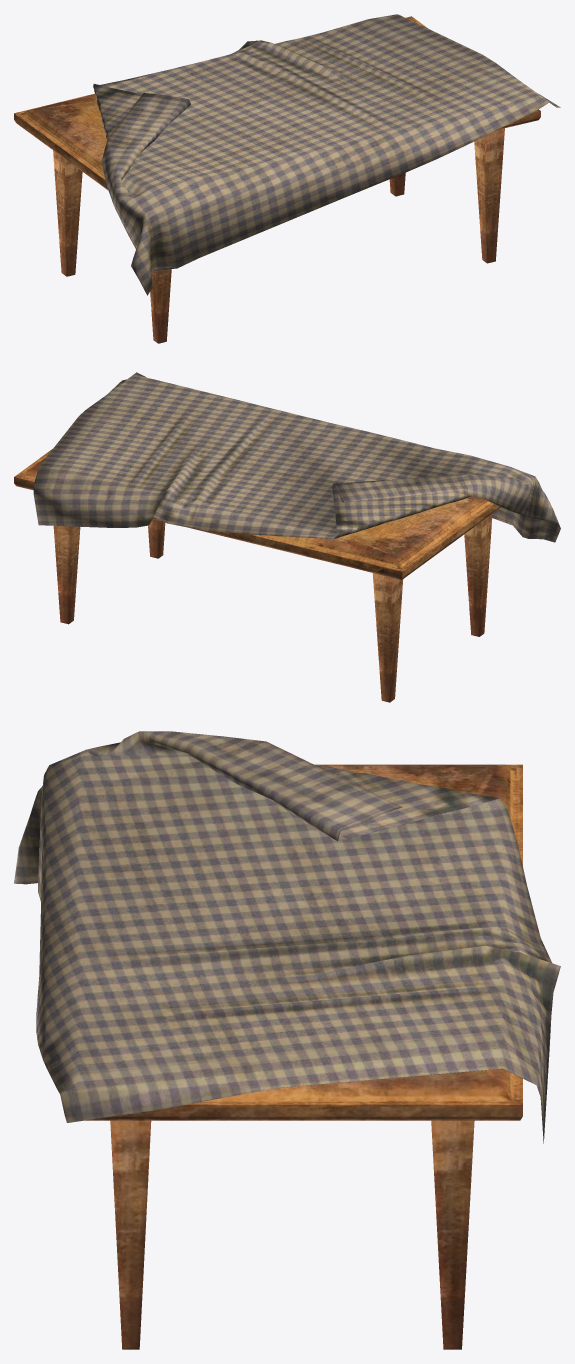
Rendered from dining_table.glb.
The picture shows the model from 3 angles, top to bottom: view 1: azimuth 30°, elevation 25°; view 2: azimuth 150°, elevation 25°; view 3: azimuth 270°, elevation 25°; orthographic projection. The views are drawn at different scales.
Parts seen in each view (by area): view 1: dining_table_cloth, dining_table; view 2: dining_table_cloth, dining_table; view 3: dining_table_cloth, dining_table.
Boxes of the visible parts, x1=… form: dining_table_cloth: x1=93, y1=14, x2=560, y2=295; dining_table: x1=14, y1=16, x2=540, y2=343; dining_table_cloth: x1=33, y1=372, x2=560, y2=542; dining_table: x1=14, y1=449, x2=501, y2=702; dining_table_cloth: x1=14, y1=731, x2=560, y2=1143; dining_table: x1=85, y1=764, x2=522, y2=1349.
Bounding box in the file's own units: 2.26 × 0.877 × 1.39.
1 material, 1 textured.
